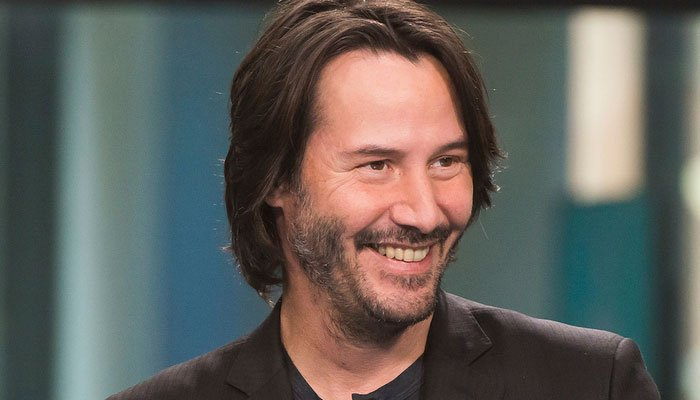NoMask: (323, 130, 472, 325)
